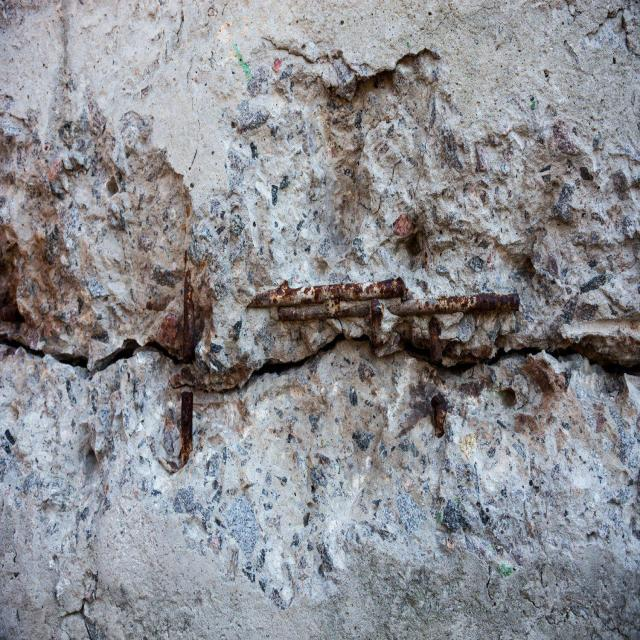non-corrosion: (161, 213, 640, 476)
